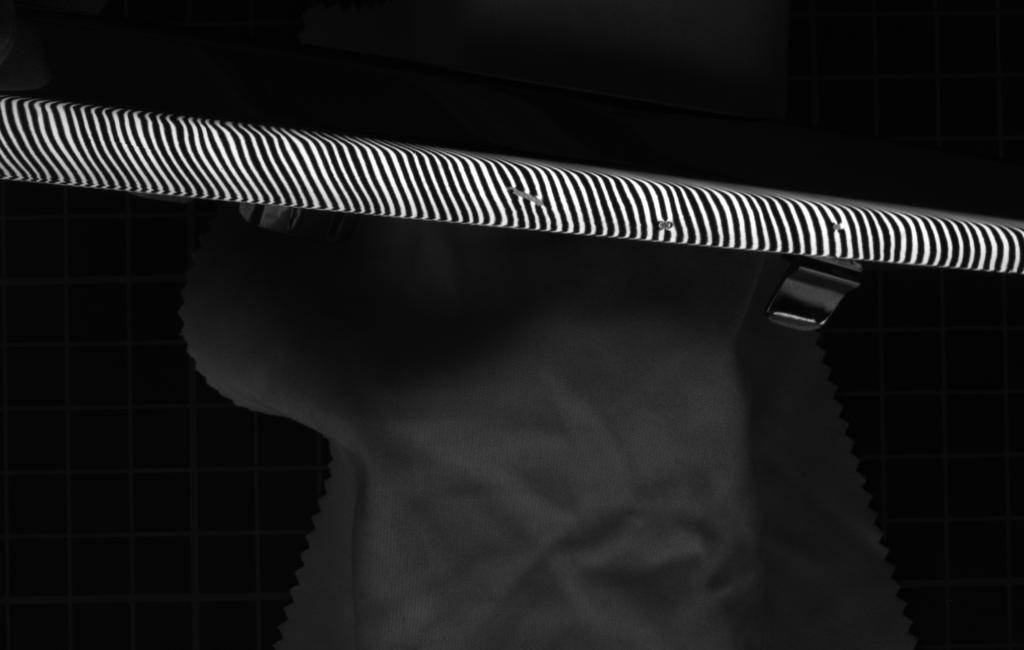Pierced: (822, 214, 853, 238), (654, 215, 680, 234)
Scratch: (501, 179, 558, 213)
